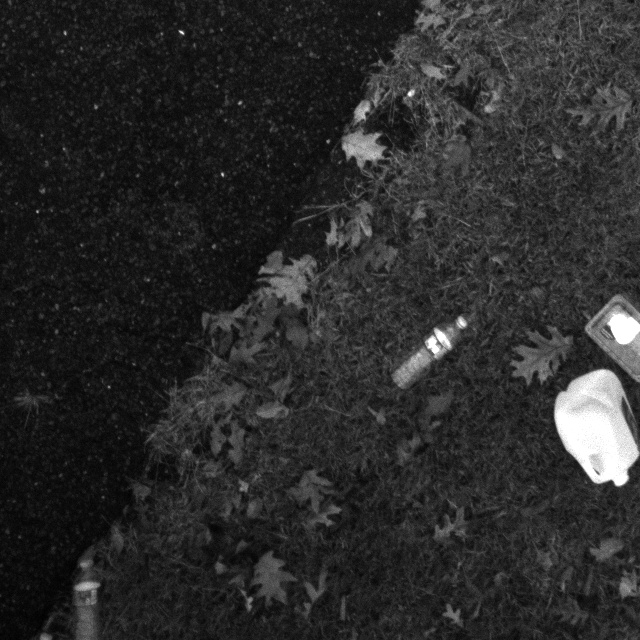bottle: (388, 313, 466, 389), (65, 551, 106, 640)
can: (548, 359, 640, 497)
container: (576, 284, 640, 389)
